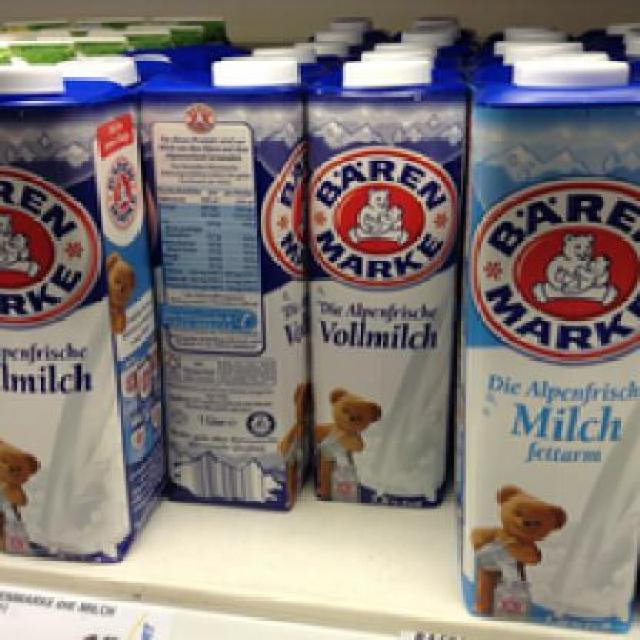Milk: (457, 49, 637, 632), (0, 60, 163, 560), (134, 56, 300, 512), (308, 48, 452, 506)
